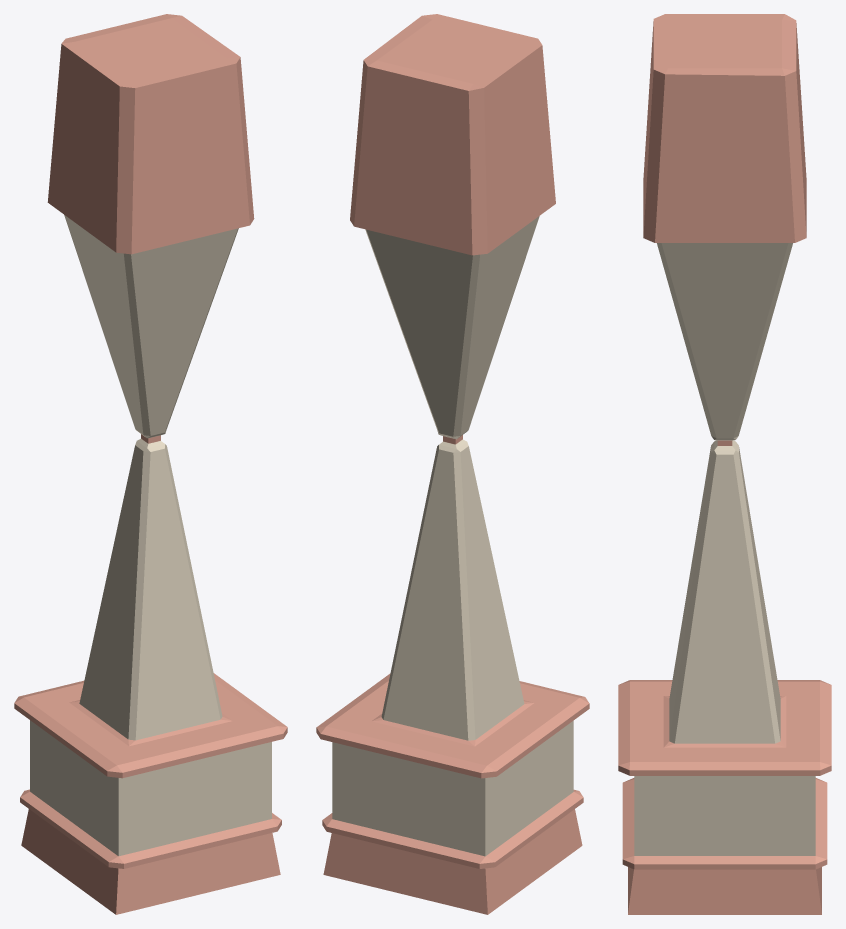
Rendered from Pillar3.fbx.
3 renders of one model, left to right at view 1: azimuth 30°, elevation 25°; view 2: azimuth 150°, elevation 25°; view 3: azimuth 270°, elevation 25°, orthographic. The views are drawn at different scales.
Visible parts, largest first — view 1: Cube; view 2: Cube; view 3: Cube.
Part boxes in pixels (x1=…): Cube: x1=14, y1=14, x2=287, y2=914; Cube: x1=316, y1=14, x2=589, y2=914; Cube: x1=618, y1=14, x2=831, y2=914.
Bounding box in the file's own units: 1021 × 4375 × 1020.
